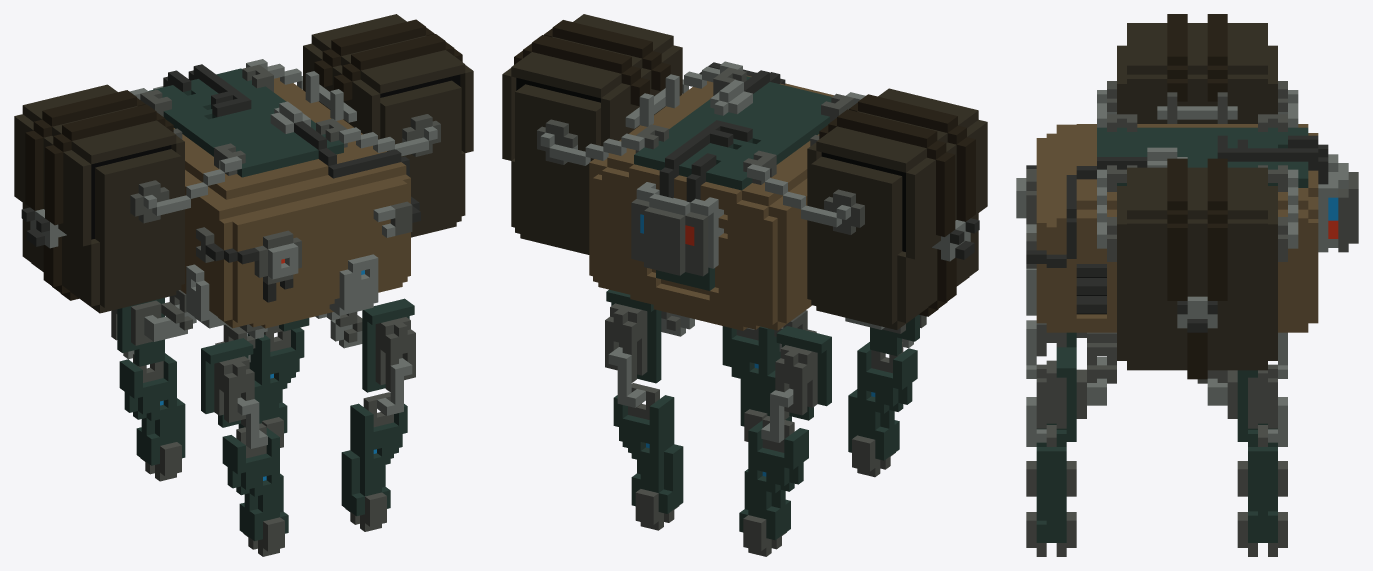
File: storage.glb
3 renders of one model, left to right at view 1: azimuth 30°, elevation 25°; view 2: azimuth 150°, elevation 25°; view 3: azimuth 270°, elevation 25°, orthographic. The views are drawn at different scales.
Parts seen in each view (by area): view 1: storage; view 2: storage; view 3: storage.
Boxes of the visible parts, box(x1,y1,x2,y2) form: storage: box(14, 14, 473, 556); storage: box(502, 14, 987, 556); storage: box(1016, 14, 1358, 556).
Bounding box in the file's own units: 5 × 4.6 × 3.4.
1 material, 1 textured.
